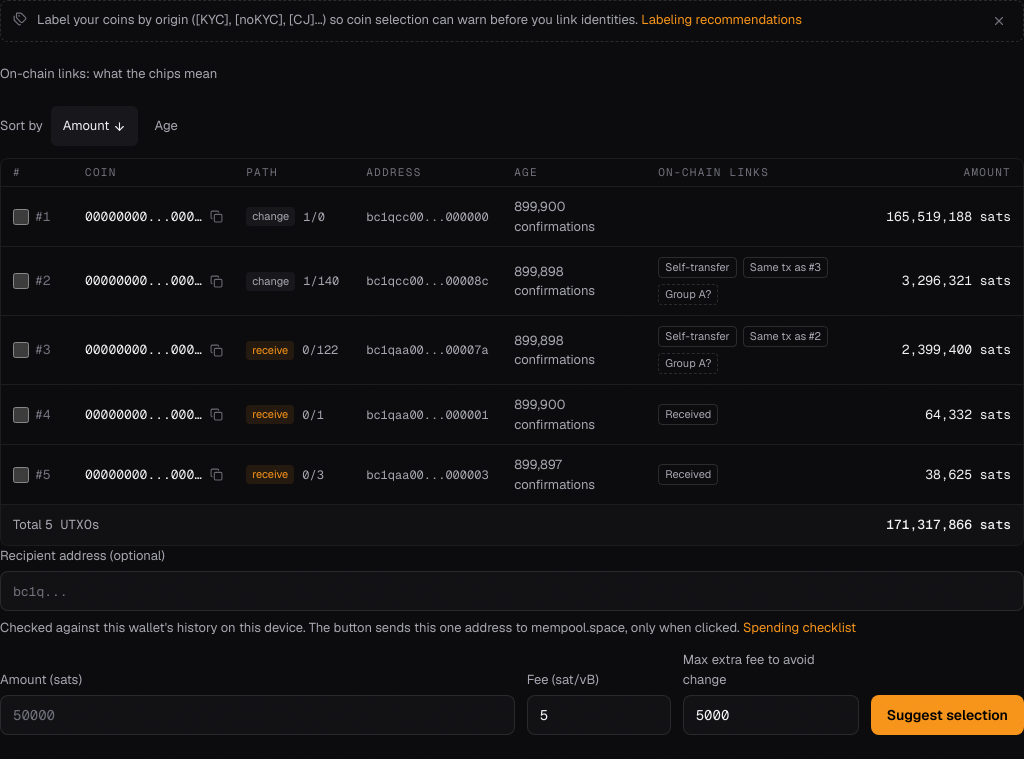
Test case: manual coin control › the tester's 3,382,886 case: his 3-coin pick (ambiguous change) first and recommended, no dilemma
Click the checkbox labelled "#2".
click(21, 281)  # box [13,273,29,289]
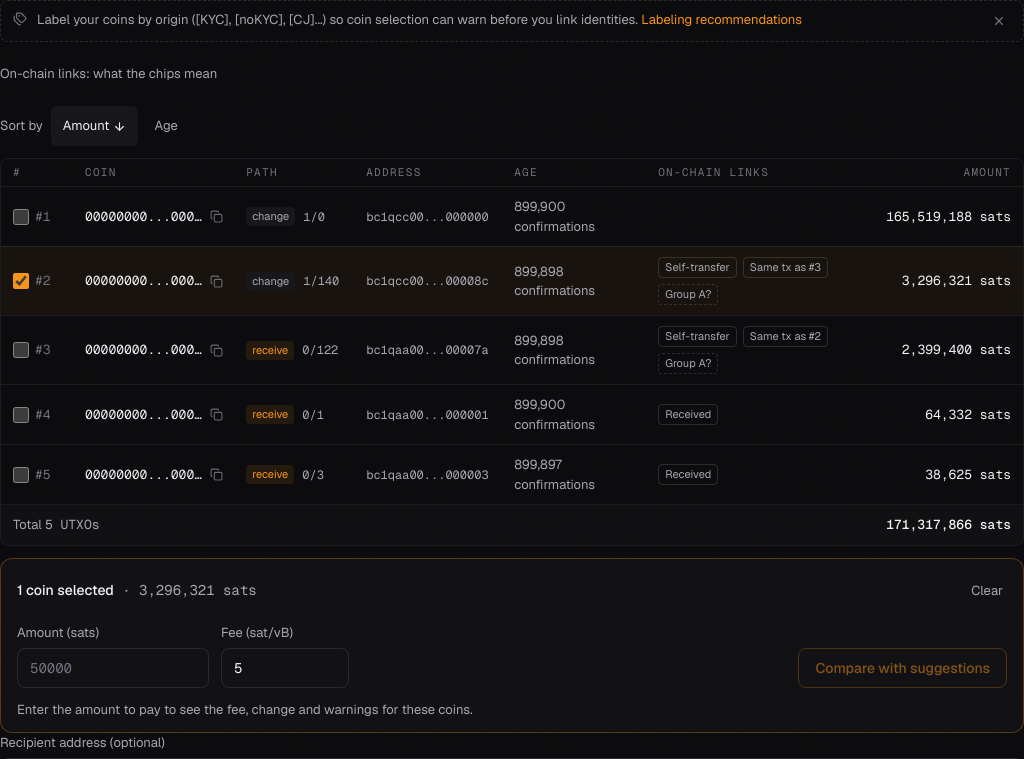
Click the checkbox labelled "#4".
click(21, 414)  # box [13,406,29,422]
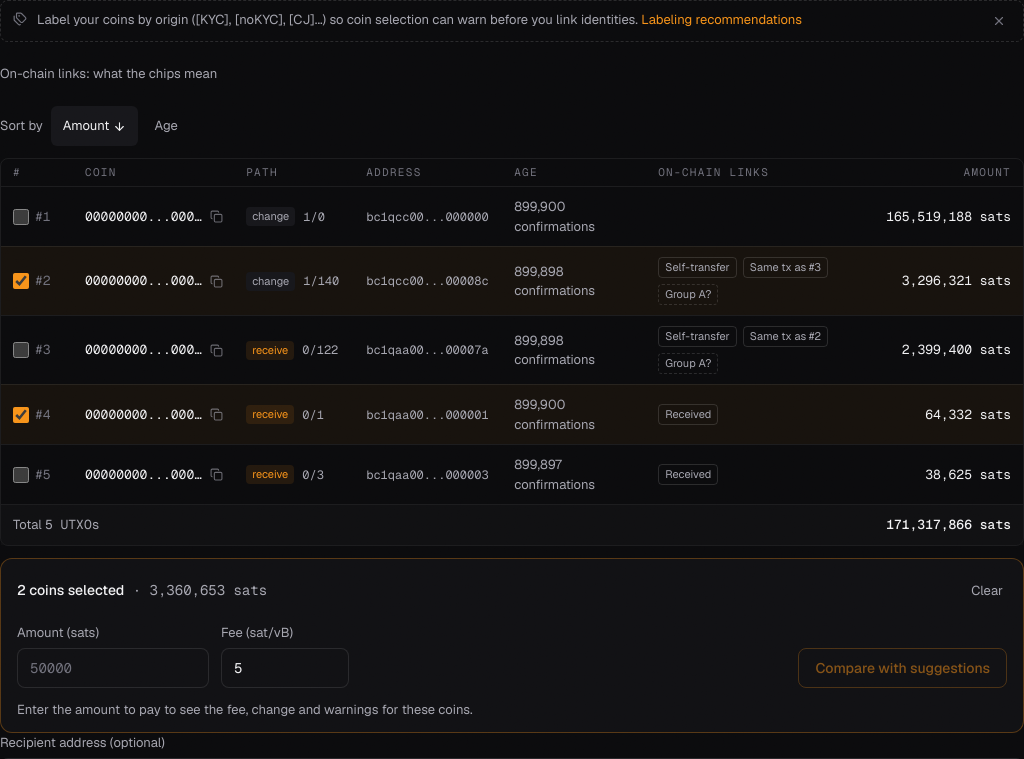
Click the checkbox labelled "#5".
click(21, 474)  # box [13,466,29,482]
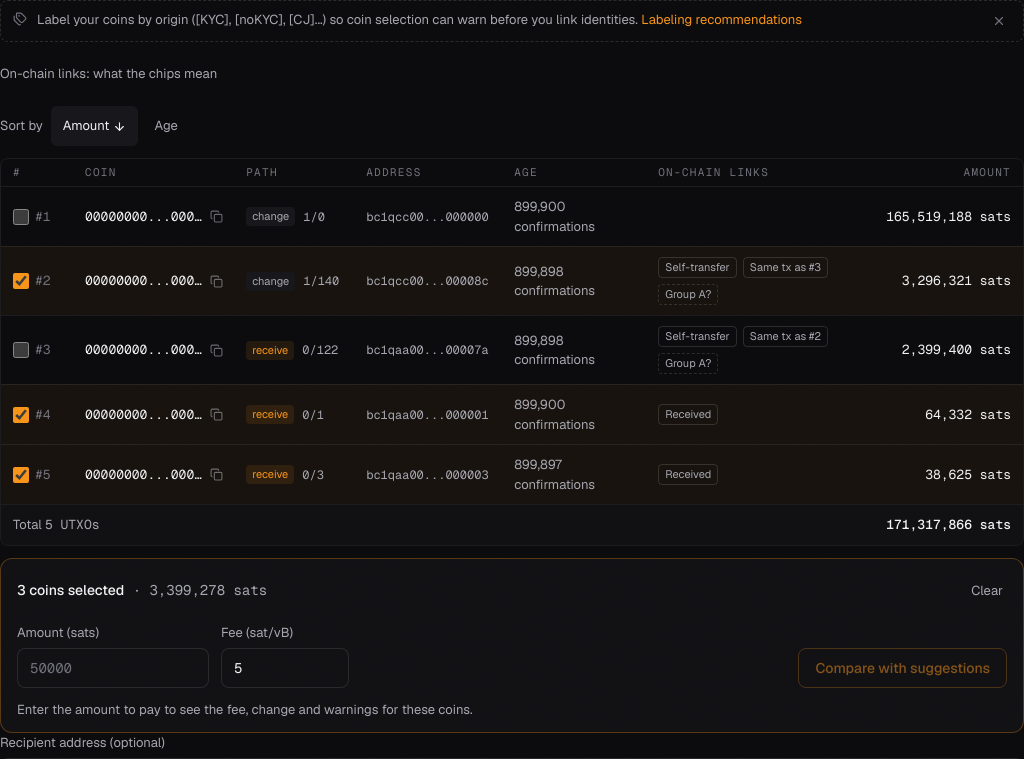
Type "3382886" into the number field labelled "Amount (sats)".
click(113, 668); type("3382886")  # box [17,648,209,688]
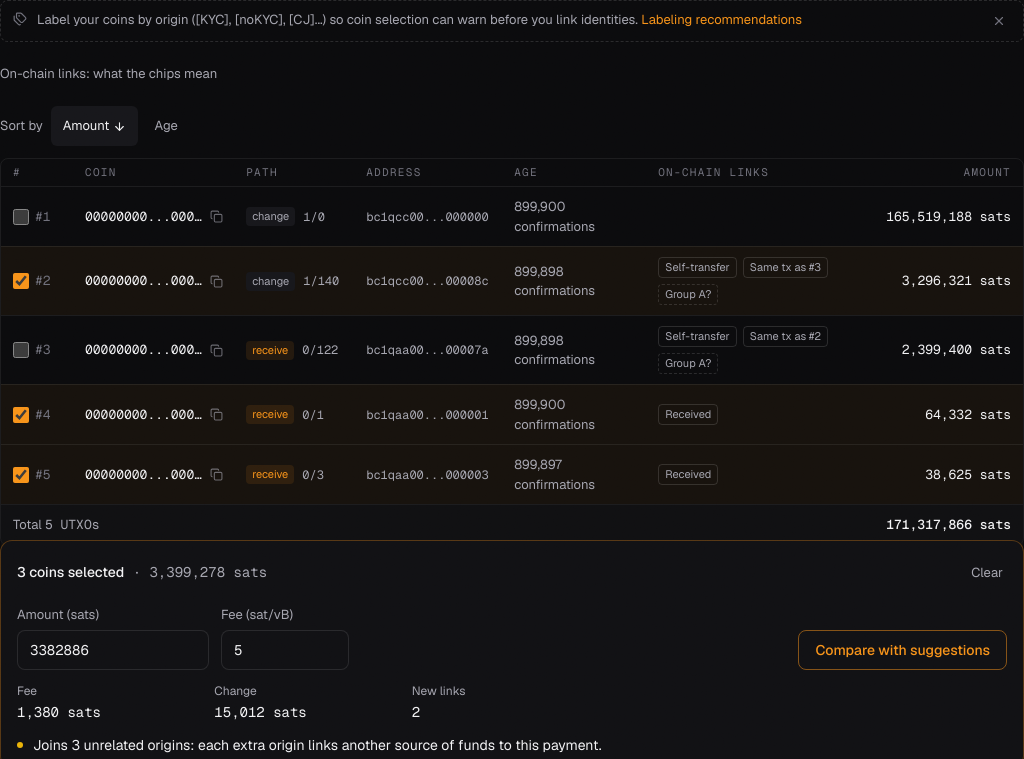
Click the button "Compare with suggestions".
click(903, 650)  # box [798,630,1007,670]
(page scrolled)
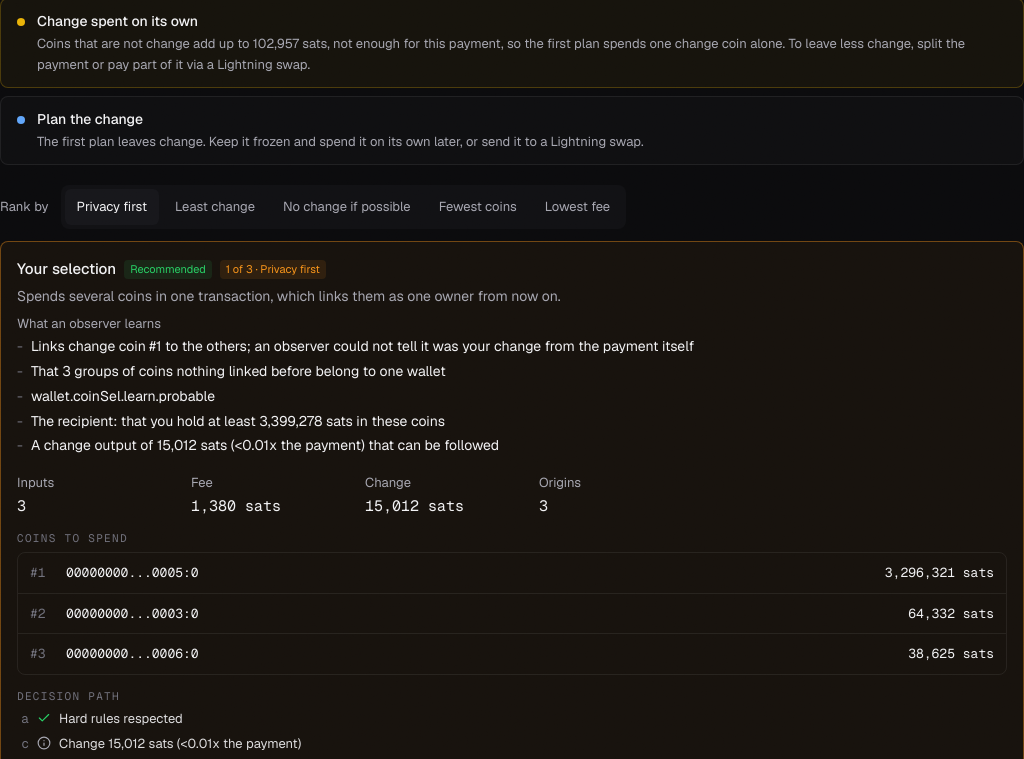
Check: the text "Recommended" is shown, box [124,260,212,279]
Check: the element with test id "plan-learns" shows "an observer could not tell it was your change from the payment itself", box [31,337,694,355]
